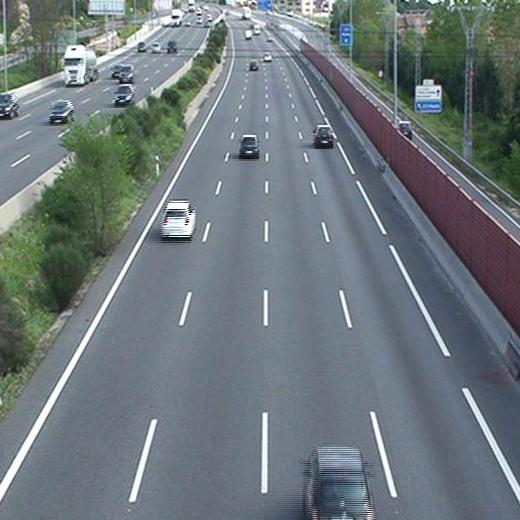car: (299, 444, 375, 520), (158, 199, 195, 240), (310, 125, 336, 147), (237, 135, 260, 158), (264, 52, 275, 63), (247, 61, 259, 71)
